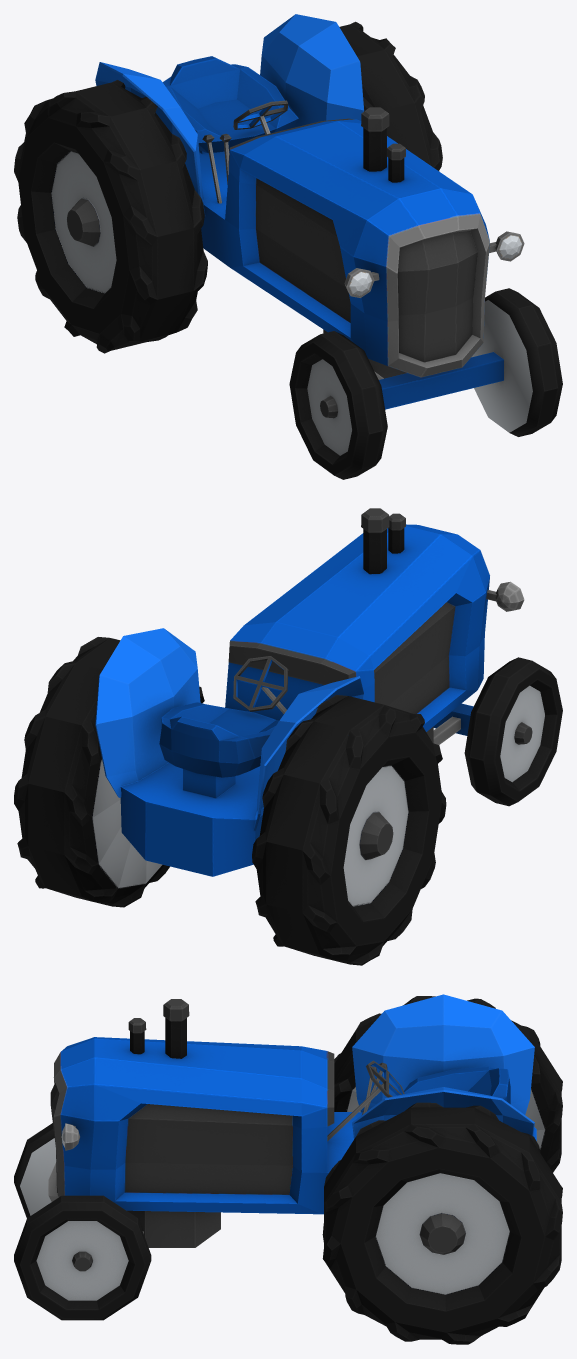
Rendered from tractor-di470.glb.
3 renders of one model, top to bottom at view 1: azimuth 30°, elevation 25°; view 2: azimuth 150°, elevation 25°; view 3: azimuth 270°, elevation 25°, orthographic. The views are drawn at different scales.
Parts seen in each view (by area): view 1: Tractor_mesh; view 2: Tractor_mesh; view 3: Tractor_mesh.
Part boxes in pixels (x1,y1,x2,y2): Tractor_mesh: (14,14,562,479); Tractor_mesh: (14,508,562,965); Tractor_mesh: (14,994,562,1344).
Bounding box in the file's own units: 9.35 × 8.62 × 15.49.
1 material, 1 textured.
